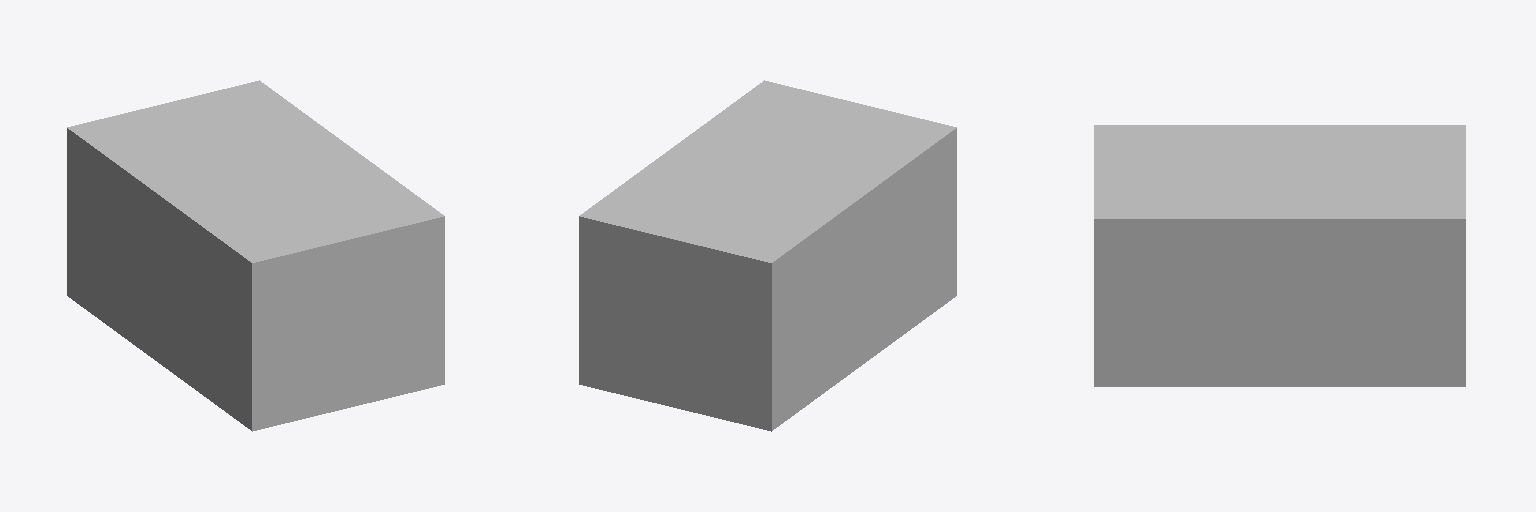
The model's file is bee.obj.
The picture shows the model from 3 angles: view 1: azimuth 30°, elevation 25°; view 2: azimuth 150°, elevation 25°; view 3: azimuth 270°, elevation 25°; orthographic projection.
Parts seen in each view (by area): view 1: object 1; view 2: object 1; view 3: object 1.
Part boxes in pixels (x1,y1,x2,y2): object 1: (67, 80, 444, 431); object 1: (579, 80, 956, 431); object 1: (1094, 125, 1465, 386).
Bounding box in the file's own units: 0.6 × 0.5 × 1.